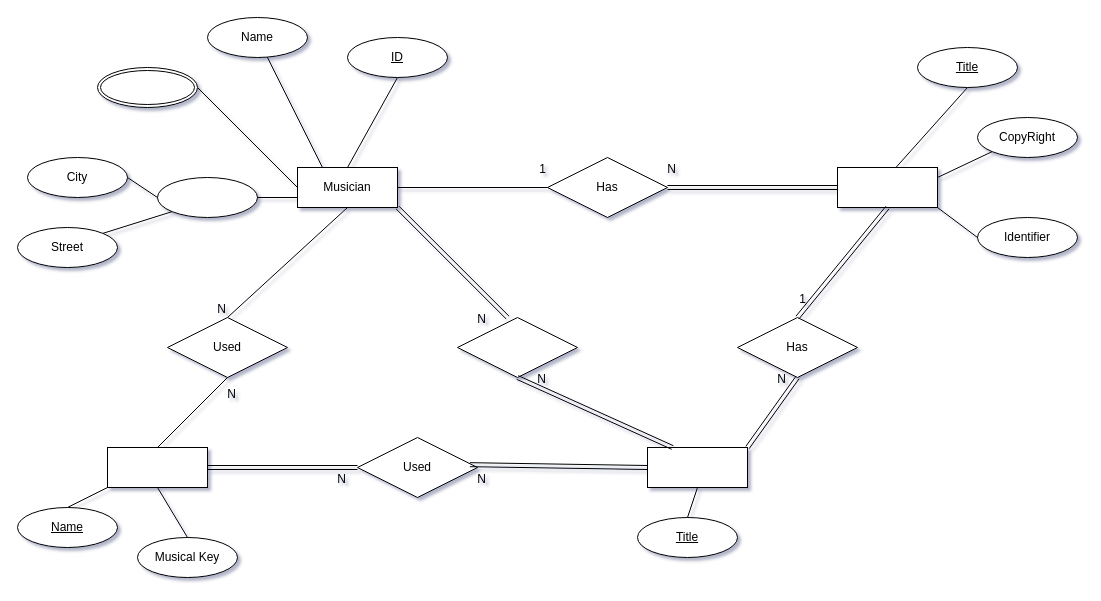
The diagram is 1101 pixels wide and 601 high, and some of its shapes have lost their labels. Each missing label, with the box of its shape:
Address: (156, 176, 258, 218)
Album: (836, 166, 938, 208)
Instrument: (106, 446, 208, 488)
Phone: (96, 66, 198, 108)
Sing: (456, 316, 578, 378)
Song: (646, 446, 748, 488)
